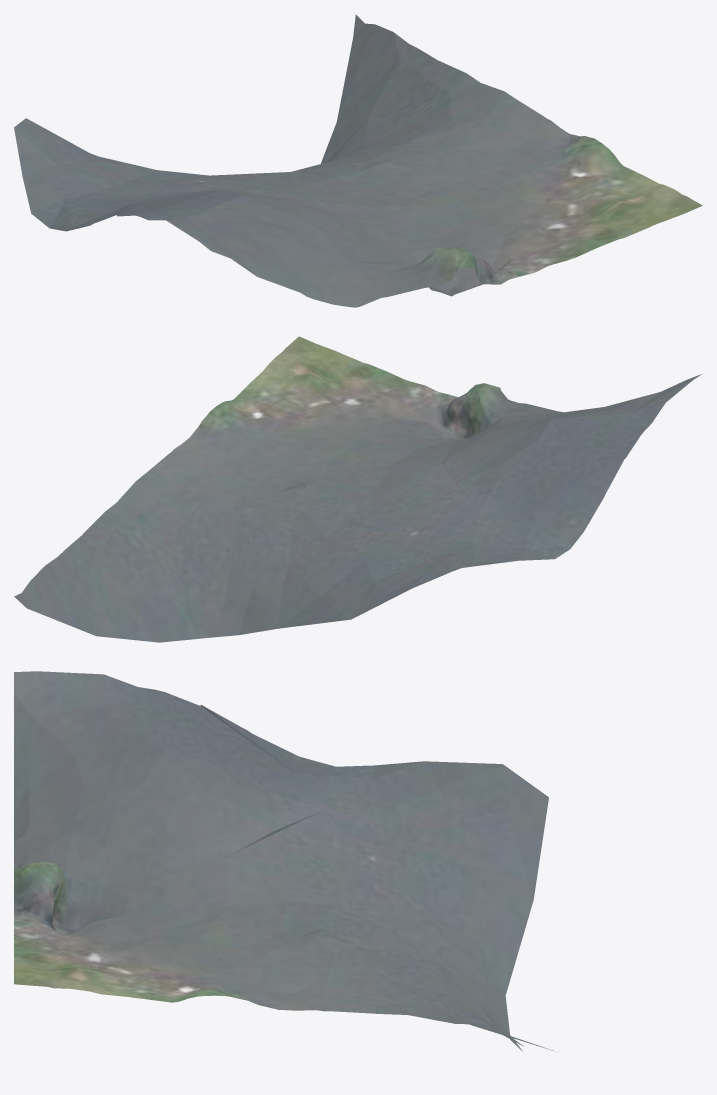
File: Tile_+000_+006_L22_00002000.glb
3 renders of one model, top to bottom at view 1: azimuth 30°, elevation 25°; view 2: azimuth 150°, elevation 25°; view 3: azimuth 270°, elevation 25°, orthographic. The views are drawn at different scales.
Parts seen in each view (by area): view 1: rtc; view 2: rtc; view 3: rtc.
Part boxes in pixels (left/top/right/bottom): rtc: left=14, top=14, right=702, bottom=307; rtc: left=14, top=336, right=701, bottom=642; rtc: left=14, top=671, right=553, bottom=1051.
Bounding box in the file's own units: 14.96 × 6.36 × 18.28.
1 material, 1 textured.
